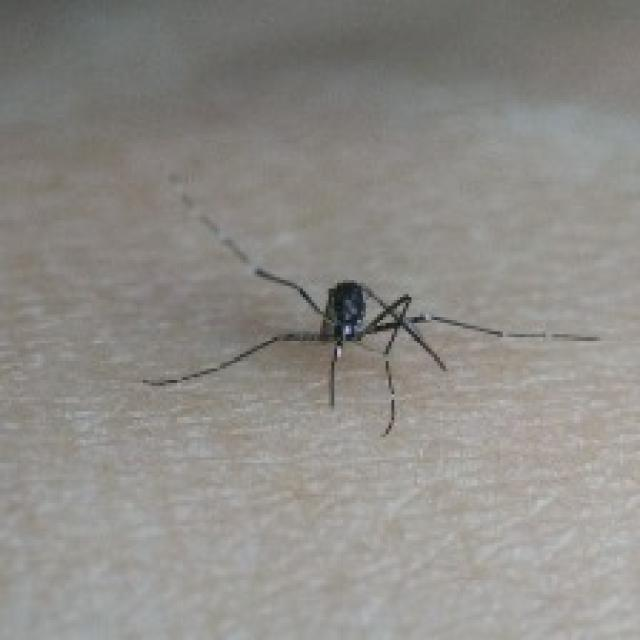aedes: (137, 174, 597, 437)
